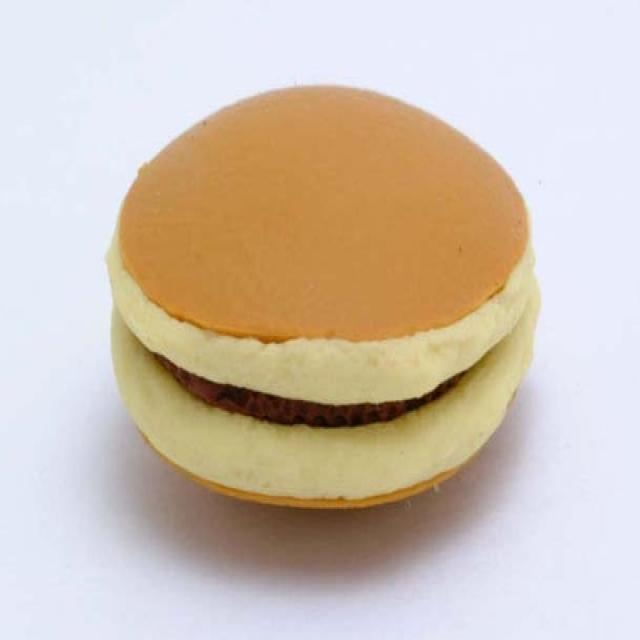蛋糕甜品: (5, 5, 628, 624)
